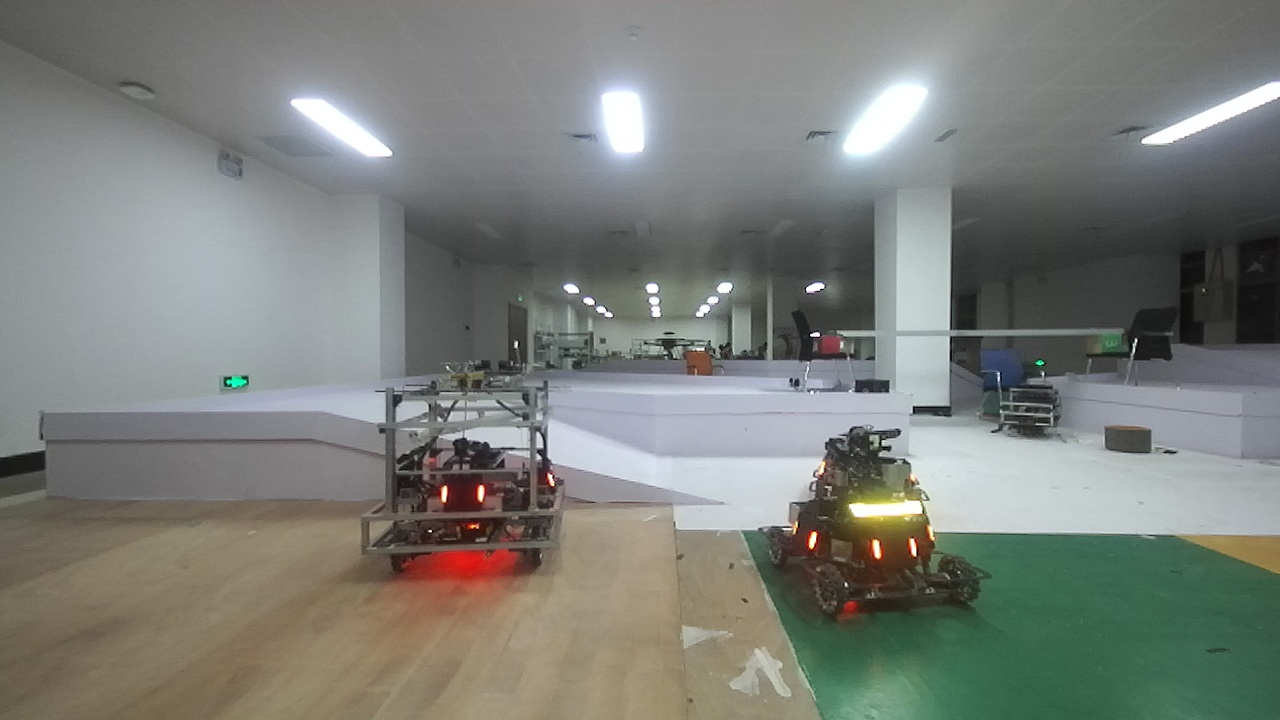car: (352, 360, 577, 585), (750, 418, 981, 615)
